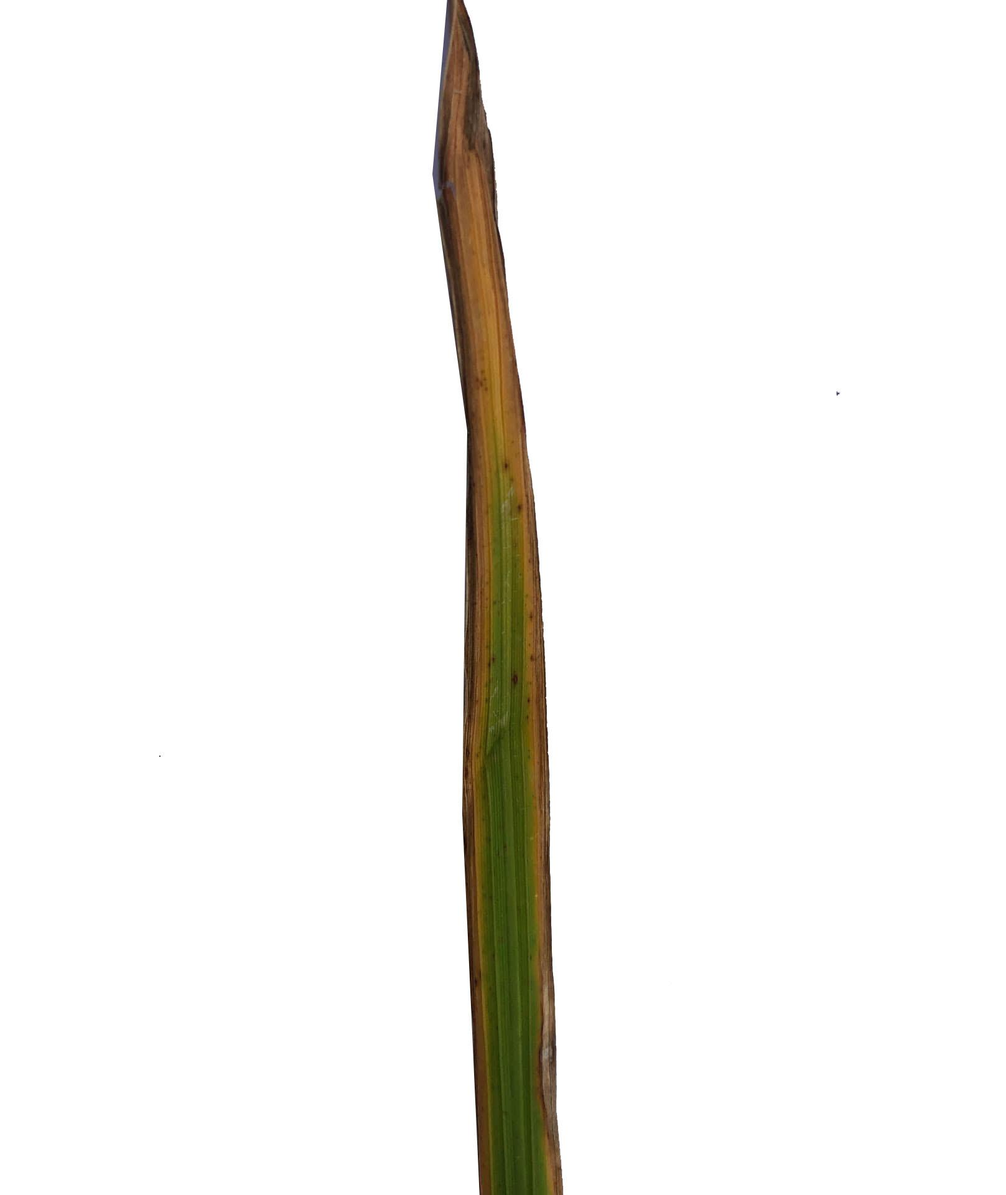Rice blast: (432, 0, 566, 1195)
